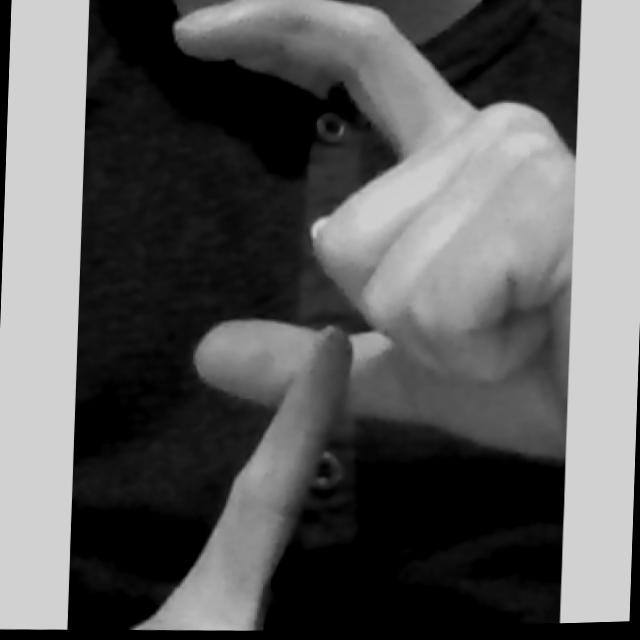C_: (106, 0, 581, 637)
